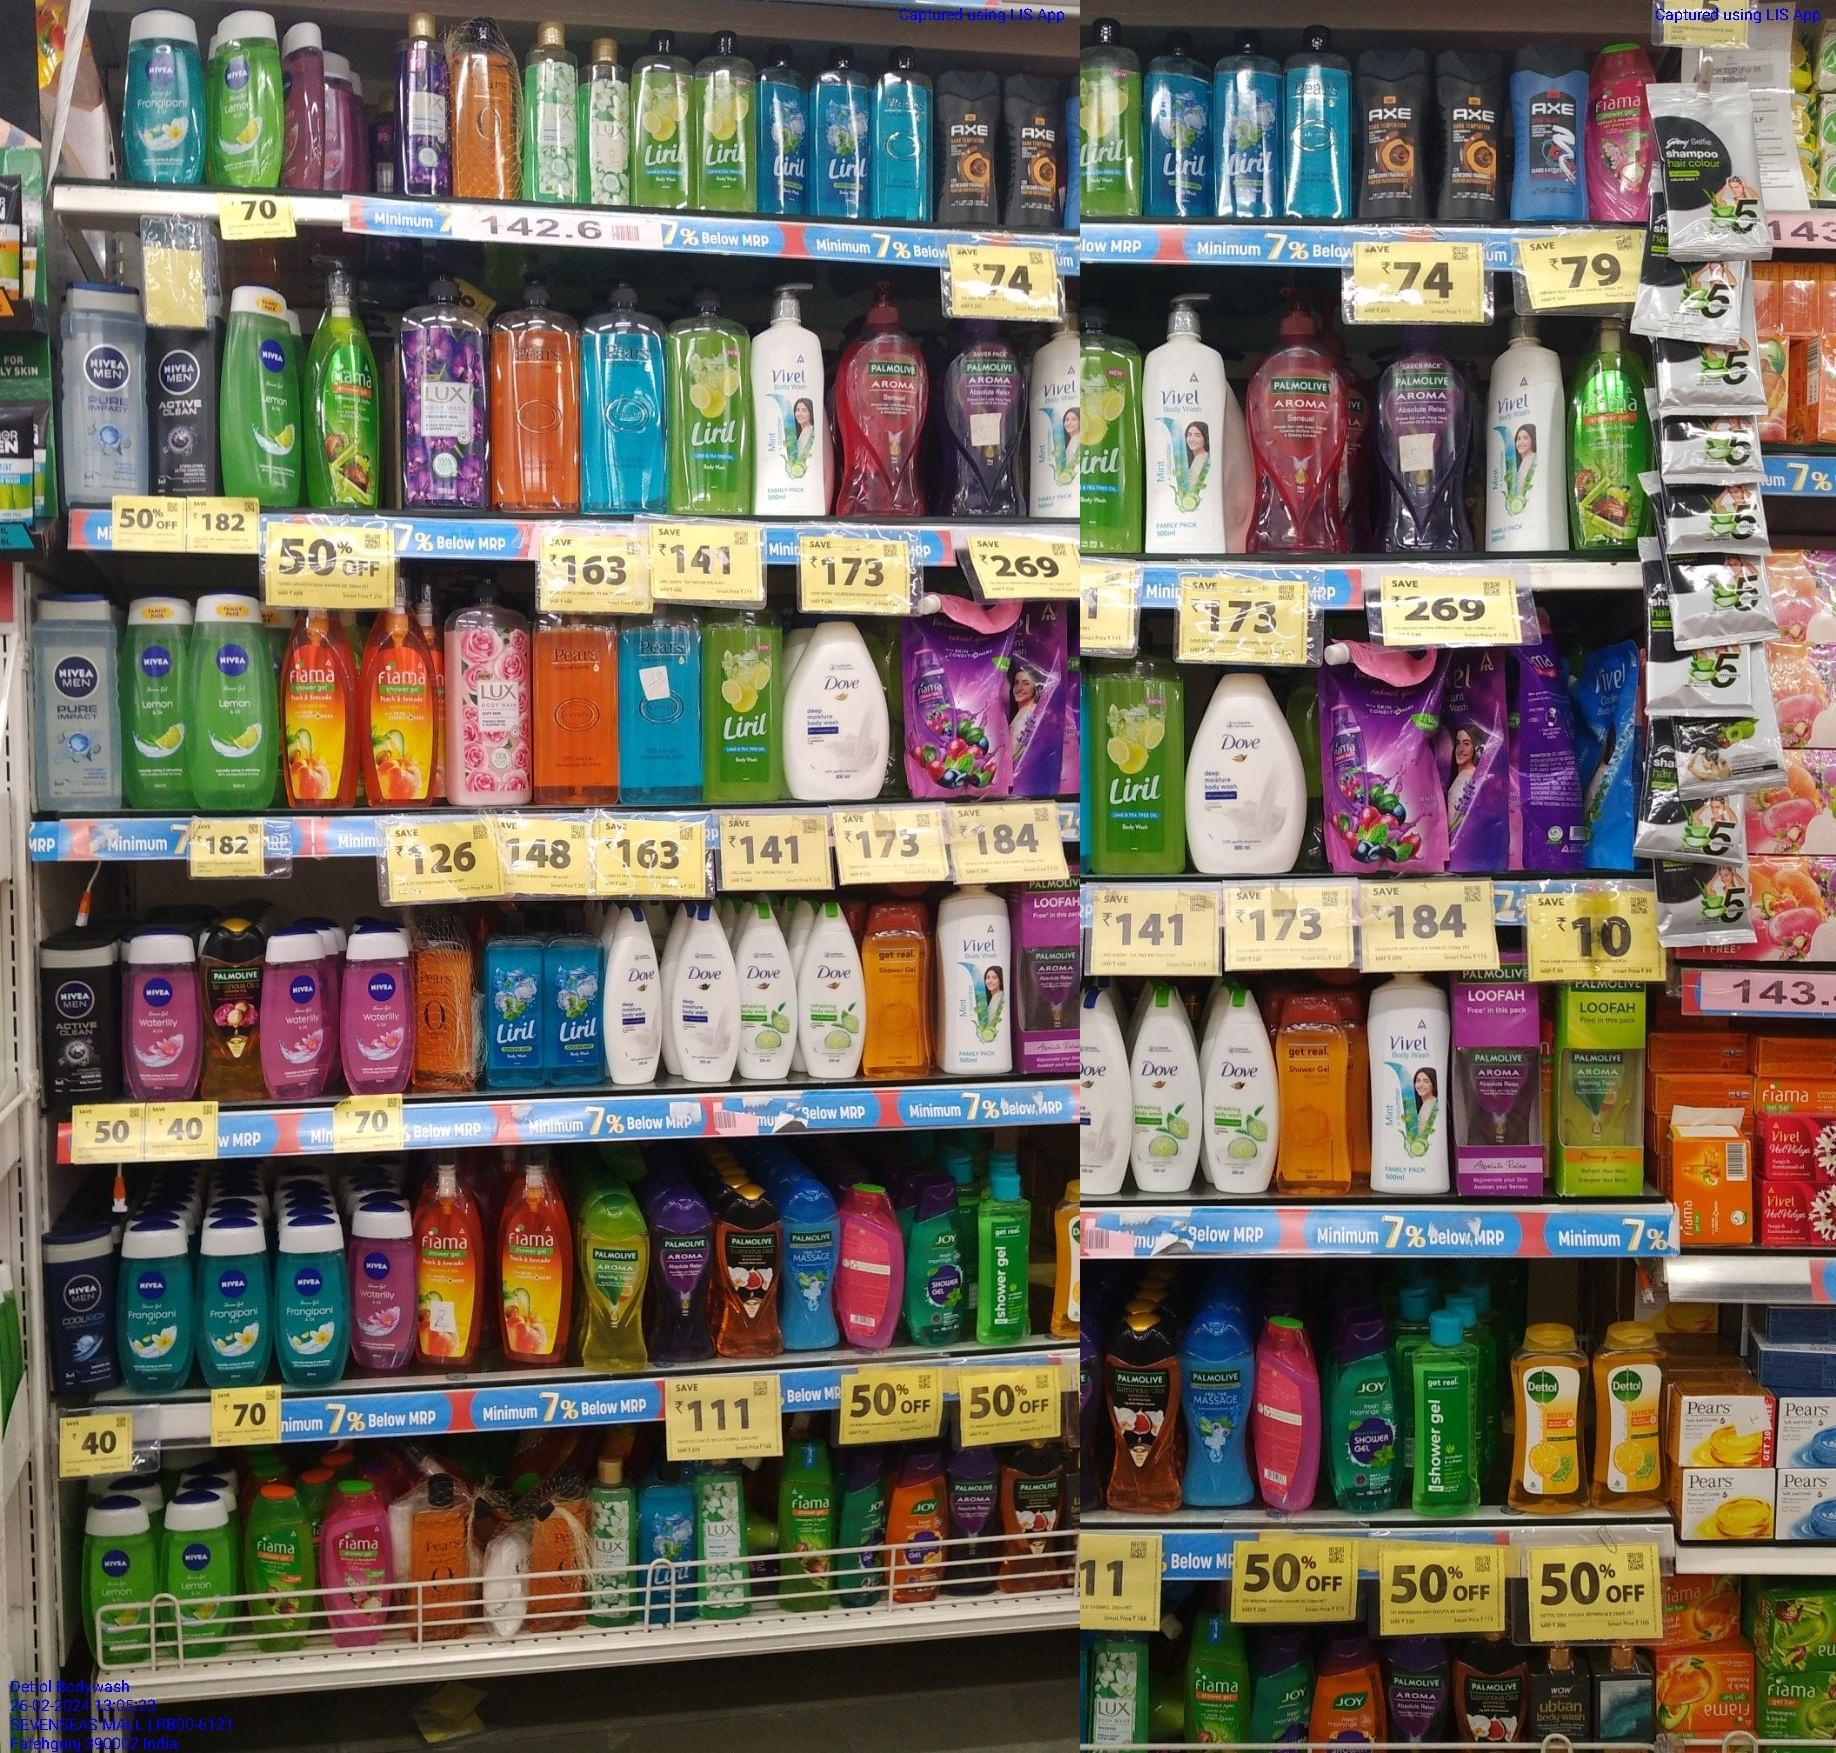Dettol_Bodywash_Refresh: (1507, 1322, 1590, 1514), (1593, 1320, 1669, 1510)
Dove_Deep_Moisture_Body_Wash_250ML: (666, 904, 738, 1082), (597, 905, 662, 1086)
Dove_Refreshing_Body_Wash_250ML: (1200, 982, 1277, 1195), (1128, 986, 1200, 1195), (798, 902, 864, 1081), (734, 900, 798, 1079)
Fiama_Shower_Gel_Lemongrass_and_Jojoba_250ML: (244, 1484, 315, 1650), (1180, 1612, 1246, 1748)
Fiama_Shower_Gel_Patchouli_and_Macadamia_250ML: (1588, 41, 1659, 223), (318, 1479, 392, 1645)
Get_Real_Shower_Gel_Moisturising_Glycerin_300ML: (1279, 989, 1352, 1200), (866, 904, 933, 1081)
Joy_Shower_Gel_Mandarin_and_Lemongrass_250ML: (887, 1453, 951, 1599)
Joy_Shower_Gel_Mint_and_Eucalyptus_250ML: (1326, 1320, 1405, 1512), (905, 1182, 972, 1348), (836, 1463, 887, 1607)
Lux_Black_Orchid_Scent_and_Juniper_Oil_Body_Wash_245ML: (398, 7, 454, 197)
Lux_Body_Wash_Skin_Detox_Freesia_Scent_and_Alove_Vera_245ML: (521, 18, 582, 205), (584, 1456, 639, 1625), (582, 34, 634, 205), (698, 1458, 749, 1619)
Nivea_Shower_Gel_Frangipani_and_Oil_250ML: (123, 5, 203, 185), (193, 1218, 272, 1387), (272, 1213, 349, 1384), (118, 1218, 193, 1391)
Nivea_Shower_Gel_Lemon_and_Oil_250ML: (220, 280, 303, 505), (193, 585, 277, 810), (120, 587, 197, 807), (207, 5, 287, 187), (80, 1492, 156, 1664), (162, 1499, 238, 1658)
Nivea_Shower_Gel_Waterlily_and_Oil_250ML: (123, 928, 203, 1099), (336, 927, 415, 1094), (352, 1199, 415, 1373), (266, 930, 329, 1099)
Palmolive_Aroma_Morning_Tonic_Shower_Gel_250ML: (580, 1197, 651, 1374)
Palmolive_Aroma_Relax_250ML: (654, 1195, 716, 1363)
Palmolive_Luminous_Oils_Invigorating_Macadamia_Oil_With_Peony_250ML: (198, 913, 266, 1104)
Palmolive_Luminous_Oils_With_White_Orchid_Shower_Gel_250ML: (1102, 1310, 1185, 1510), (720, 1187, 782, 1358), (998, 1438, 1067, 1591)
